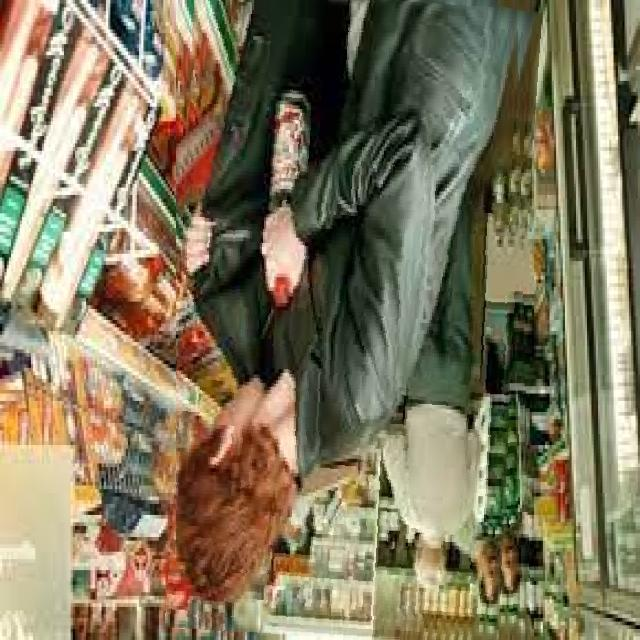Shoplifting: (176, 0, 531, 640)
